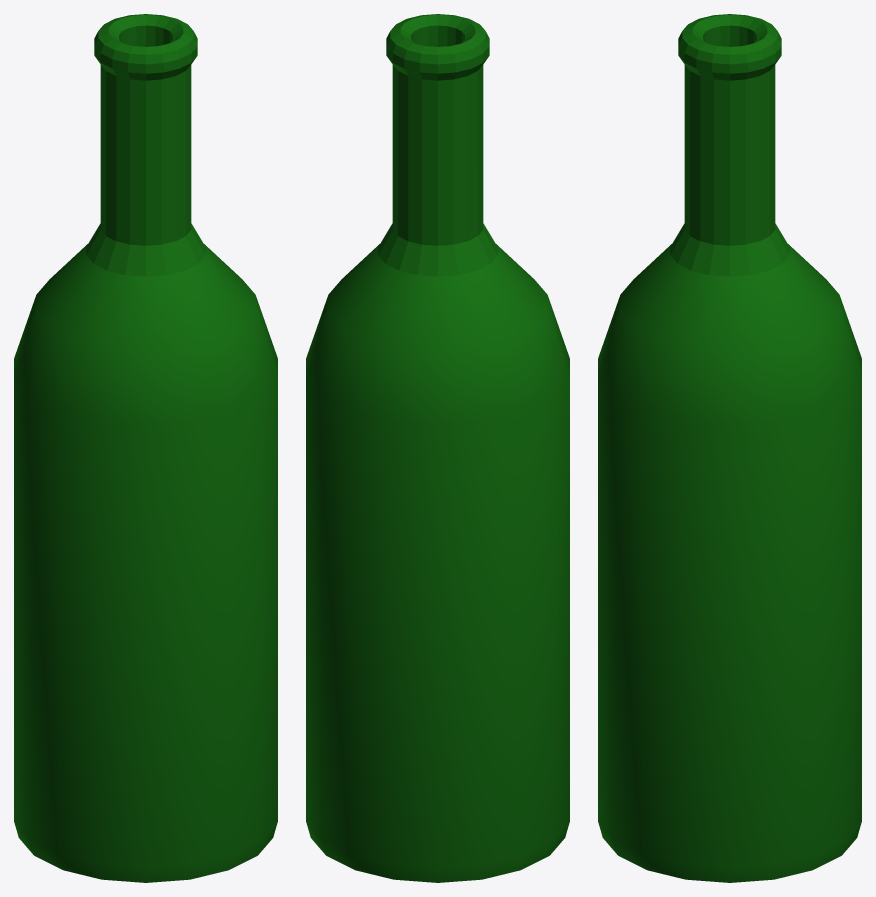
Rendered from Botella1.fbx.
The picture shows the model from 3 angles, left to right: view 1: azimuth 30°, elevation 25°; view 2: azimuth 150°, elevation 25°; view 3: azimuth 270°, elevation 25°; orthographic projection.
Visible parts, largest first — view 1: Cylinder001; view 2: Cylinder001; view 3: Cylinder001.
Boxes of the visible parts, bbox=[...] form: Cylinder001: bbox=[14, 14, 277, 882]; Cylinder001: bbox=[306, 14, 569, 882]; Cylinder001: bbox=[598, 14, 861, 882].
Bounding box in the file's own units: 23.58 × 77.98 × 23.22.
Materials: 1 (1 with a texture image).
